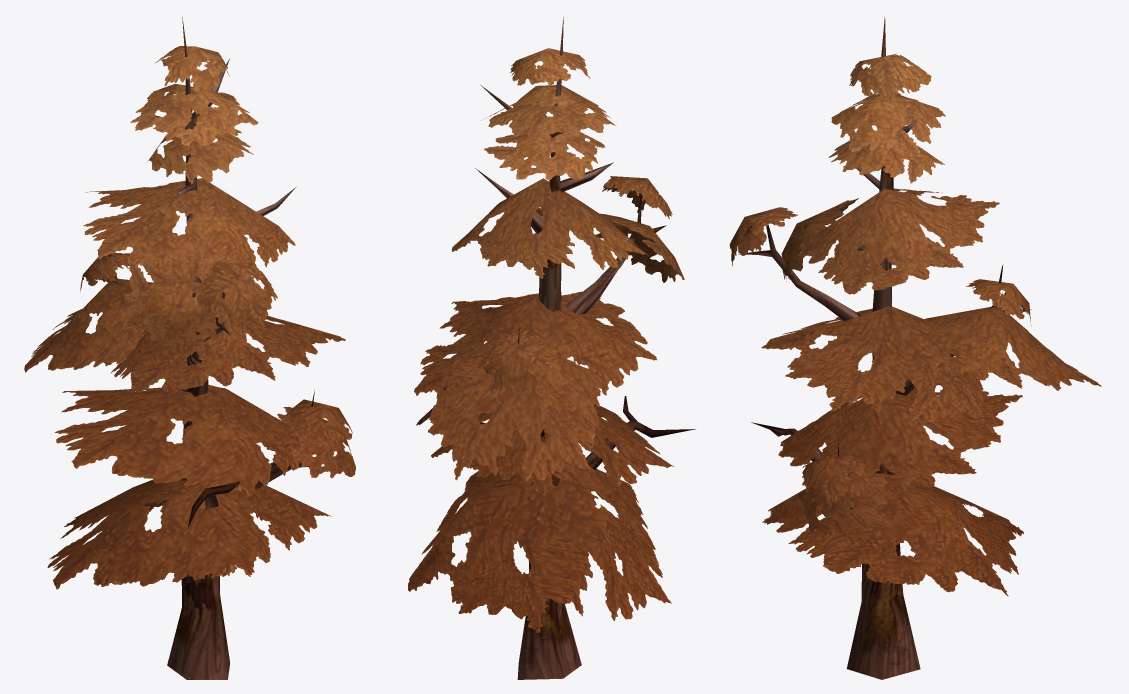
Rendered from Tree04.FBX.
3 renders of one model, left to right at view 1: azimuth 30°, elevation 25°; view 2: azimuth 150°, elevation 25°; view 3: azimuth 270°, elevation 25°, orthographic. The views are drawn at different scales.
Visible parts, largest first — view 1: Tree006; view 2: Tree006; view 3: Tree006.
Boxes of the visible parts, bbox=[...] form: Tree006: bbox=[24, 17, 355, 679]; Tree006: bbox=[408, 17, 695, 679]; Tree006: bbox=[729, 17, 1101, 679].
Bounding box in the file's own units: 2.26 × 2.69 × 4.9.
1 material, 1 textured.
